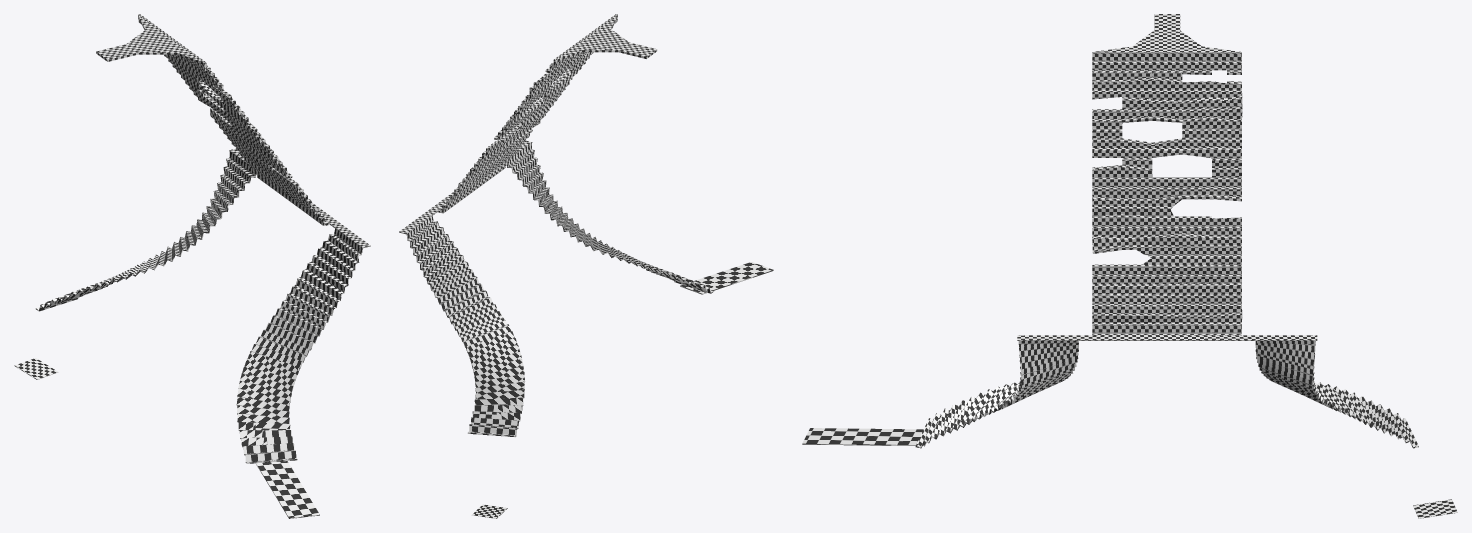
The model's file is B2_map_0.fbx.
3 renders of one model, left to right at view 1: azimuth 30°, elevation 25°; view 2: azimuth 150°, elevation 25°; view 3: azimuth 270°, elevation 25°, orthographic. The views are drawn at different scales.
Visible parts, largest first — view 1: stairs_left, big_stairs, stairs_right, left_landing, top_platform, landing, right_landing; view 2: stairs_right, big_stairs, stairs_left, top_platform, left_landing, landing; view 3: big_stairs, stairs_left, stairs_right, left_landing, top_platform, landing.
Boxes of the visible parts, x1=… form: stairs_left: x1=236, y1=228, x2=362, y2=463; big_stairs: x1=138, y1=14, x2=328, y2=225; stairs_right: x1=35, y1=150, x2=256, y2=311; left_landing: x1=256, y1=461, x2=319, y2=518; top_platform: x1=96, y1=15, x2=204, y2=64; landing: x1=229, y1=148, x2=370, y2=248; right_landing: x1=14, y1=358, x2=58, y2=379; stairs_right: x1=406, y1=215, x2=525, y2=437; big_stairs: x1=438, y1=14, x2=617, y2=213; stairs_left: x1=506, y1=142, x2=714, y2=293; top_platform: x1=555, y1=15, x2=657, y2=61; left_landing: x1=680, y1=262, x2=773, y2=294; landing: x1=399, y1=140, x2=532, y2=234; big_stairs: x1=1092, y1=52, x2=1242, y2=335; stairs_left: x1=915, y1=335, x2=1078, y2=448; stairs_right: x1=1255, y1=335, x2=1418, y2=448; left_landing: x1=802, y1=428, x2=926, y2=446; top_platform: x1=1094, y1=14, x2=1240, y2=51; landing: x1=1017, y1=335, x2=1317, y2=340.
Bounding box in the file's own units: 4789 × 9382 × 11926.
